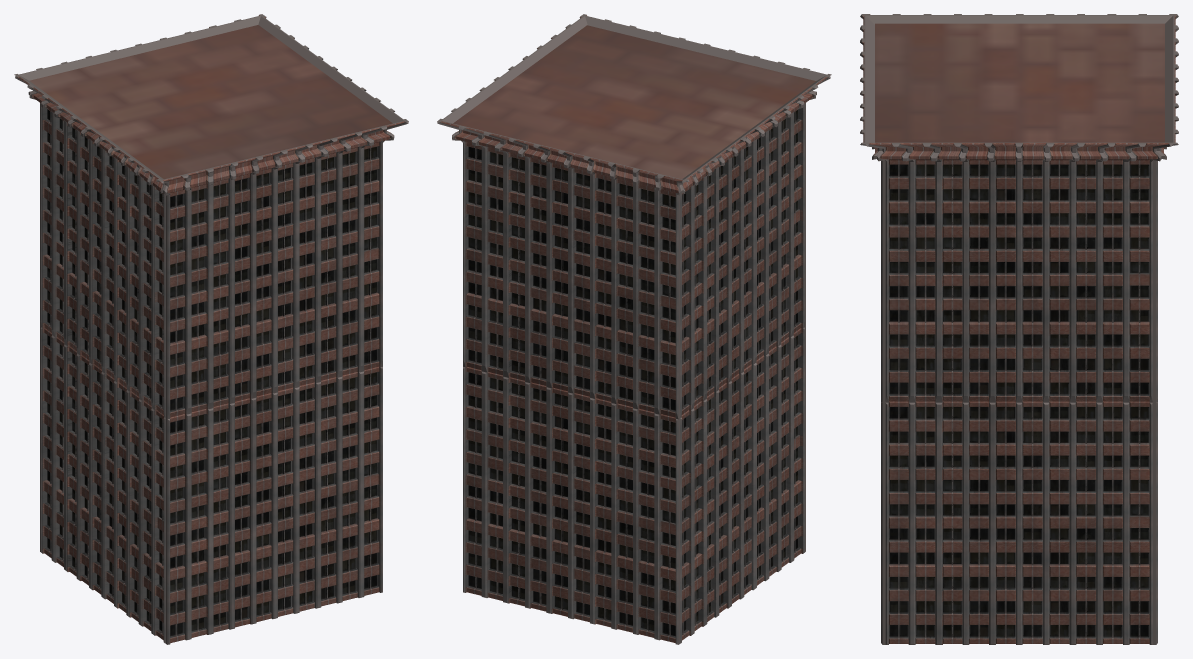
Rendered from building 9.fbx.
The picture shows the model from 3 angles, left to right: view 1: azimuth 30°, elevation 25°; view 2: azimuth 150°, elevation 25°; view 3: azimuth 270°, elevation 25°; orthographic projection. The views are drawn at different scales.
Parts seen in each view (by area): view 1: Plane; view 2: Plane; view 3: Plane.
Boxes of the visible parts, x1,y1,x2,y2 form: Plane: (14,14,408,644); Plane: (437,14,831,644); Plane: (860,14,1178,644).
Size of the model in its own units: 116 by 210 by 119.
